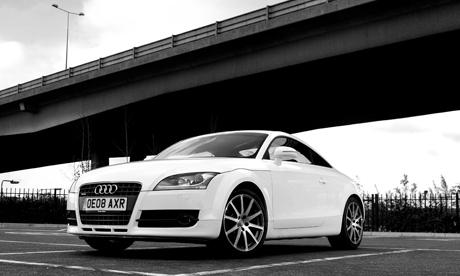car: (64, 121, 365, 261)
